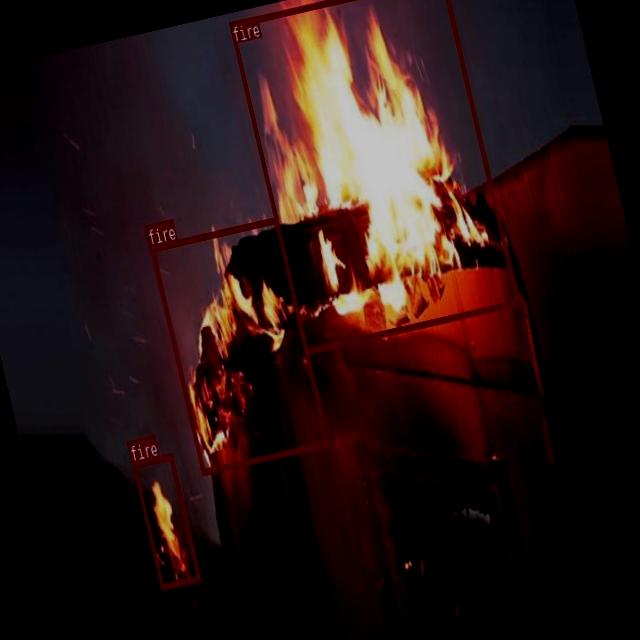fire: (228, 0, 519, 353), (148, 216, 330, 474), (132, 452, 200, 588)
